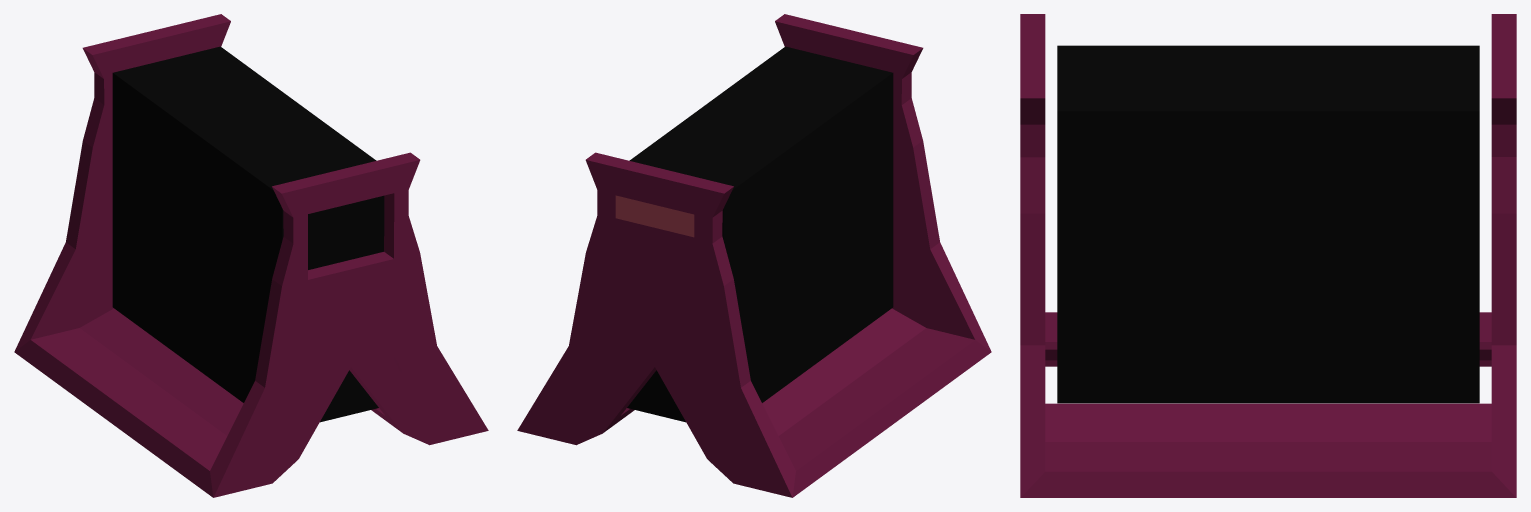
File: JefeC.fbx
3 views of the same model, side by side, from view 1: azimuth 30°, elevation 25°; view 2: azimuth 150°, elevation 25°; view 3: azimuth 270°, elevation 25° (orthographic). The views are drawn at different scales.
Parts seen in each view (by area): view 1: CuerpoJ, Centro; view 2: CuerpoJ, Centro; view 3: Centro, CuerpoJ.
Part boxes in pixels (bbox=[...]): CuerpoJ: bbox=[14, 14, 488, 497]; Centro: bbox=[112, 46, 384, 422]; CuerpoJ: bbox=[517, 14, 991, 497]; Centro: bbox=[627, 46, 893, 422]; Centro: bbox=[1057, 45, 1479, 403]; CuerpoJ: bbox=[1020, 14, 1516, 497].
Bounding box in the file's own units: 319 × 319 × 400.
